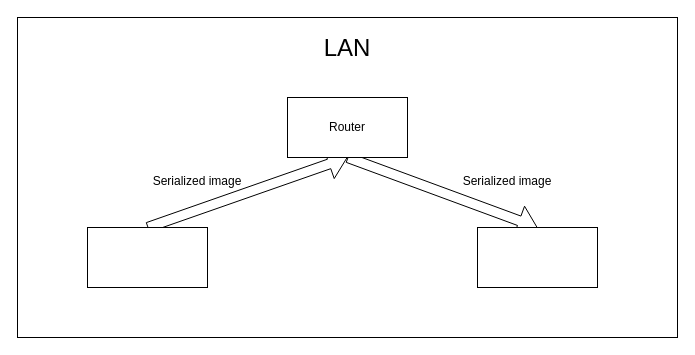
The diagram is 695 pixels wide and 355 high, and some of its shapes have lost their labels. The centre of each missing label's shape, as x and y in pixels:
"Raspberry PI (Server)" belongs at (147,257).
"Windows PC" belongs at (537,257).
